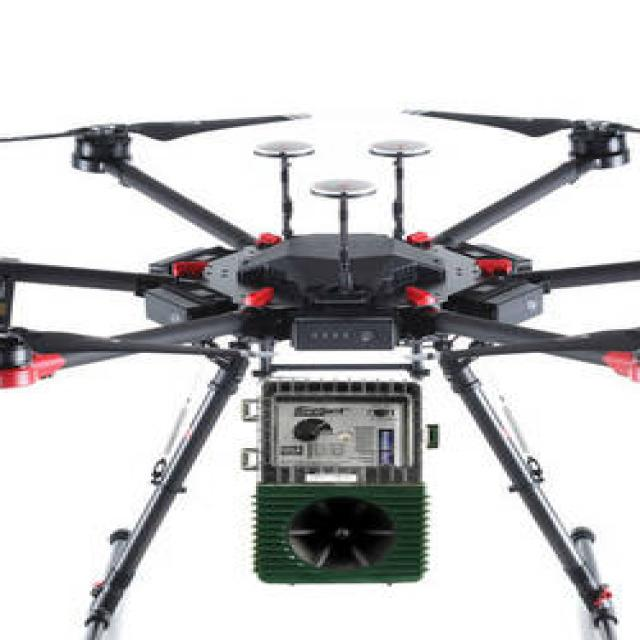drone: (0, 90, 640, 457)
